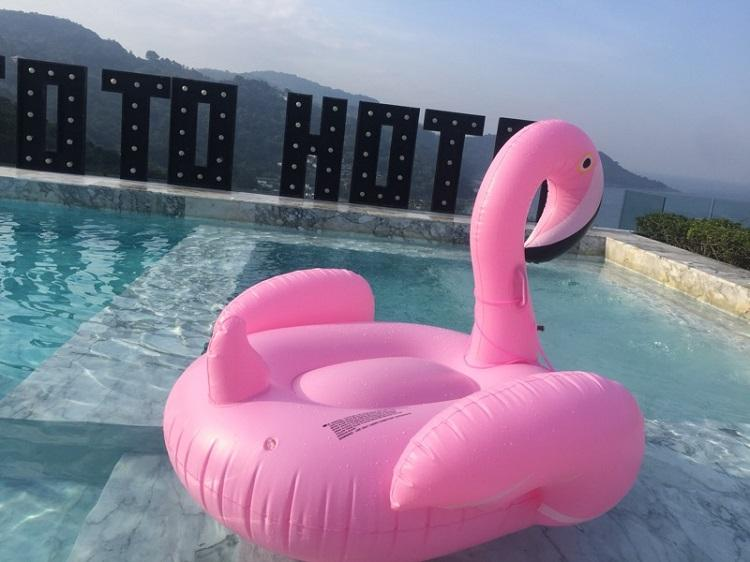Flamingo: (160, 115, 650, 562)
